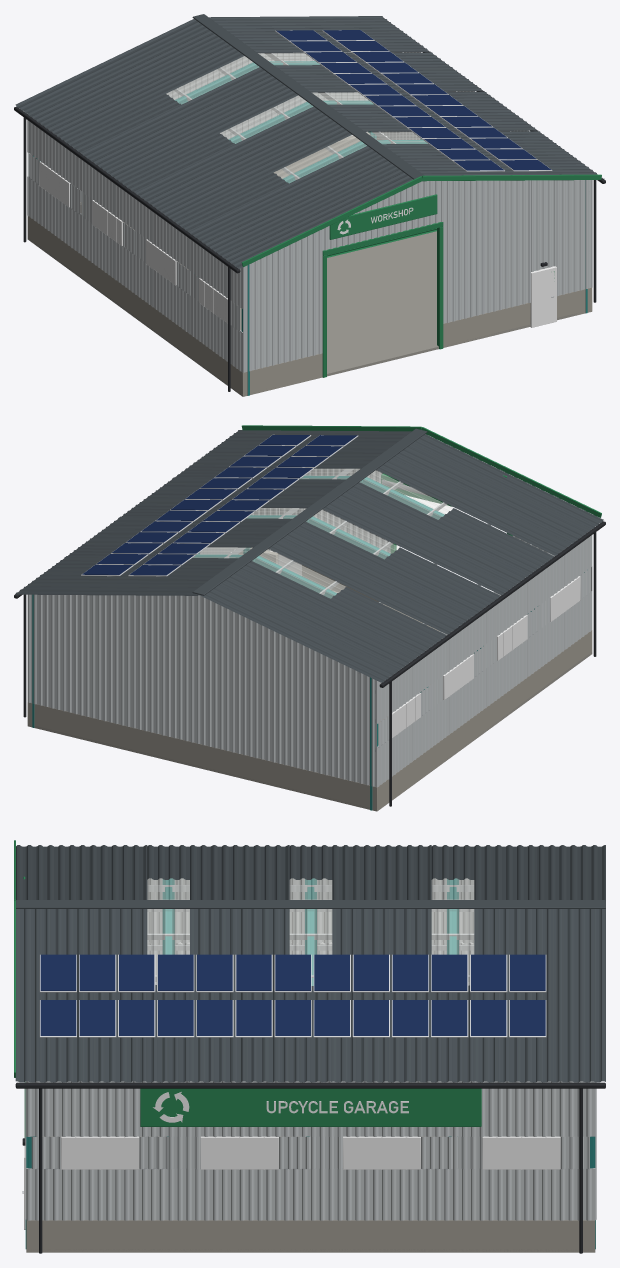
Rendered from workshop_shed.fbx.
The picture shows the model from 3 angles, top to bottom: view 1: azimuth 30°, elevation 25°; view 2: azimuth 150°, elevation 25°; view 3: azimuth 270°, elevation 25°; orthographic projection. The views are drawn at different scales.
Visible parts, largest first — view 1: workshop_shed; view 2: workshop_shed; view 3: workshop_shed.
Boxes of the visible parts, x1,y1,x2,y2 form: workshop_shed: [14, 14, 605, 396]; workshop_shed: [14, 425, 605, 811]; workshop_shed: [14, 840, 605, 1253].
Size of the model in its own units: 15.86 by 7.46 by 16.65.
